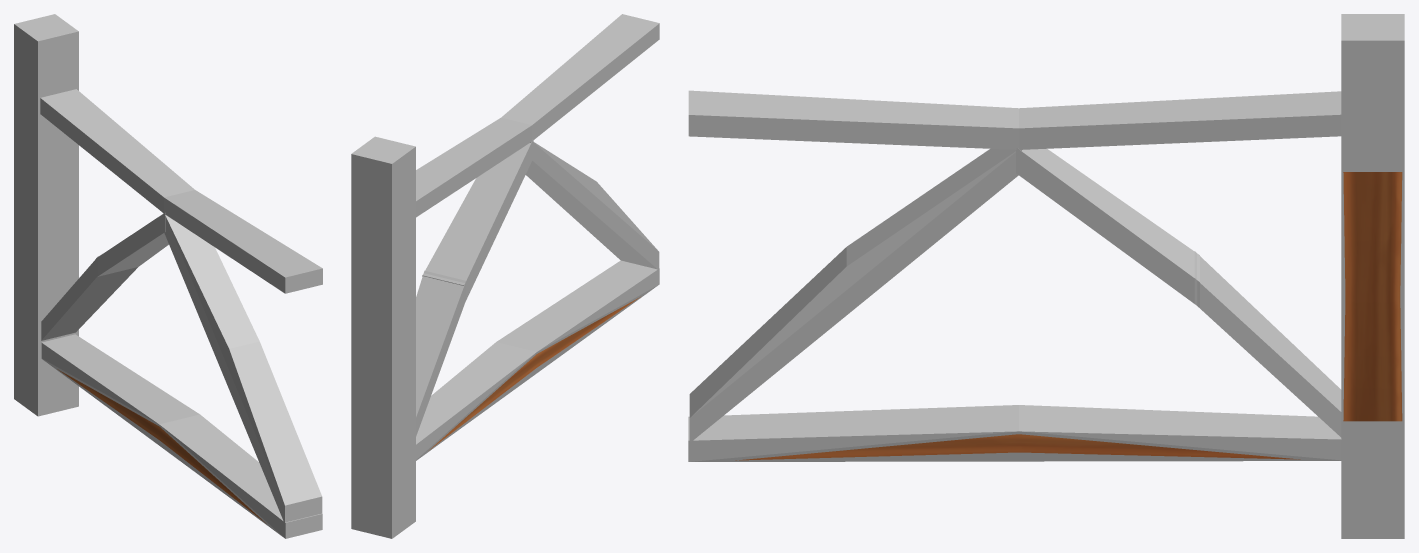
Rendered from SM_Fences01_3.fbx.
3 renders of one model, left to right at view 1: azimuth 30°, elevation 25°; view 2: azimuth 150°, elevation 25°; view 3: azimuth 270°, elevation 25°, orthographic. The views are drawn at different scales.
Parts seen in each view (by area): view 1: SM_Fences01_3_ConvexHulls, SM_Fences01_3; view 2: SM_Fences01_3_ConvexHulls, SM_Fences01_3; view 3: SM_Fences01_3_ConvexHulls, SM_Fences01_3.
Part boxes in pixels (<box>): SM_Fences01_3_ConvexHulls: <box>14,14,322,538</box>; SM_Fences01_3: <box>57,369,266,523</box>; SM_Fences01_3_ConvexHulls: <box>351,14,659,538</box>; SM_Fences01_3: <box>430,297,640,449</box>; SM_Fences01_3_ConvexHulls: <box>688,14,1404,538</box>; SM_Fences01_3: <box>735,172,1402,460</box>.
Size of the model in its own units: 17.66 by 177 by 136.
2 materials, 1 textured.
